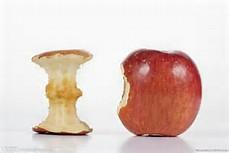apple: (112, 42, 202, 139)
